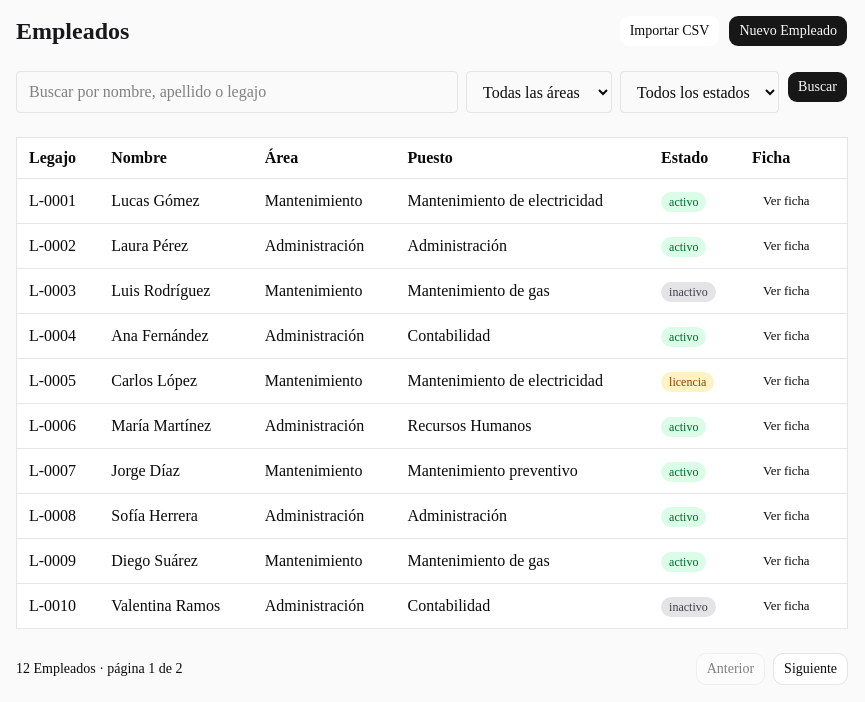
Scenario: EmpleadosPage › pagina el listado
Expected: the text "Lucas Gómez" is shown, [99, 178, 253, 224]
Click the button "Siguiente" at (811, 669), box [773, 653, 848, 685]
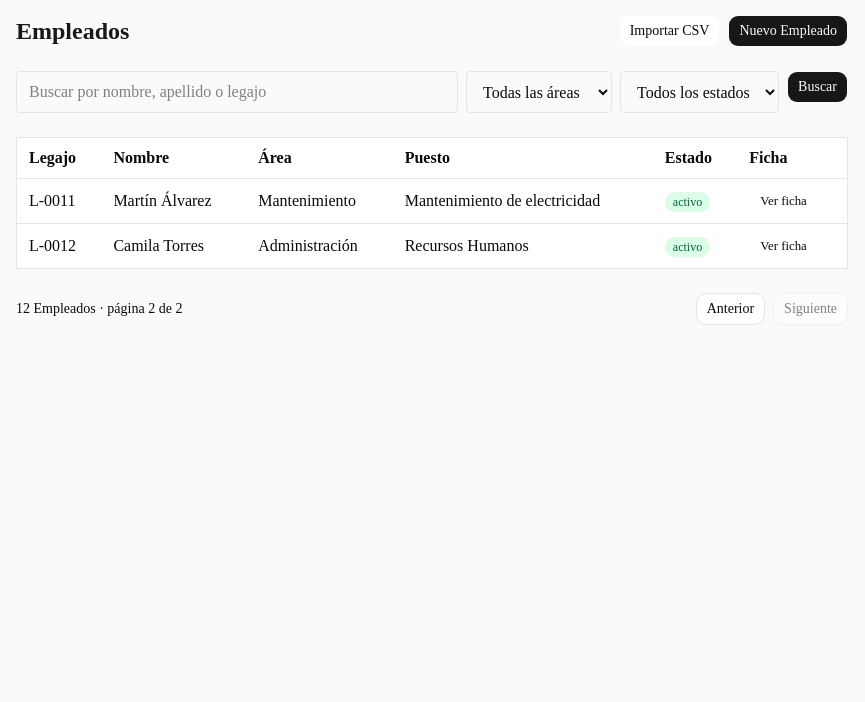
Expected: the text "12 Empleados · página 2 de 2" is shown, [16, 299, 182, 319]
Expected: the text "Lucas Gómez" is gone
Expected: the button "Siguiente" is disabled, [773, 293, 848, 325]
